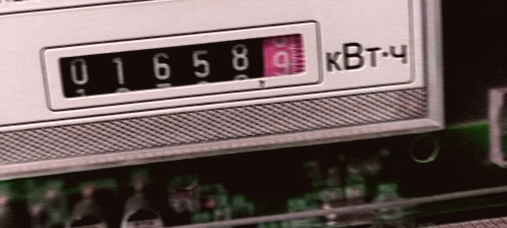0: (67, 54, 91, 88)
1: (111, 54, 127, 86)
5: (190, 46, 213, 80)
6: (151, 49, 174, 82)
8: (229, 40, 251, 74)
9: (270, 48, 291, 76)
screen: (32, 10, 329, 118)
